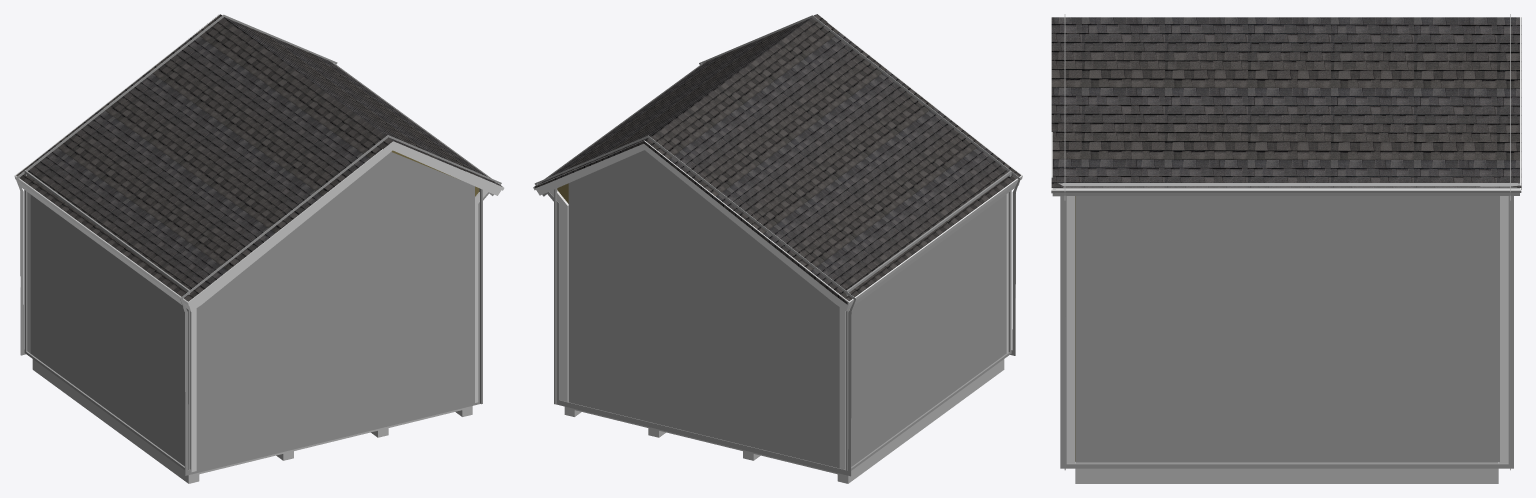
File: sample.fbx
3 renders of one model, left to right at view 1: azimuth 30°, elevation 25°; view 2: azimuth 150°, elevation 25°; view 3: azimuth 270°, elevation 25°, orthographic. The views are drawn at different scales.
Visible parts, largest first — view 1: front_side_plane, Architectural_Shingles_Roofing, left_side_plane, Trim_side, Shed_SaltBox_10x10_Wooden_Base, front_side_outline, left_side_outline, back_side_outline, right_side_outline; view 2: back_side_plane, Architectural_Shingles_Roofing, left_side_plane, Trim_side, back_side_outline, Shed_SaltBox_10x10_Wooden_Base, left_side_outline, front_side_outline, right_side_outline; view 3: right_side_plane, Architectural_Shingles_Roofing, Trim_side, Shed_SaltBox_10x10_Wooden_Base, right_side_outline, front_side_outline.
Boxes of the visible parts, box(x1,y1,x2,y2) form: front_side_plane: box(196, 152, 474, 471); Architectural_Shingles_Roofing: box(16, 14, 502, 301); left_side_plane: box(30, 194, 186, 466); Trim_side: box(14, 14, 504, 472); Shed_SaltBox_10x10_Wooden_Base: box(32, 359, 472, 483); front_side_outline: box(180, 135, 501, 475); left_side_outline: box(24, 170, 189, 469); back_side_outline: box(15, 14, 337, 355); right_side_outline: box(479, 188, 482, 404); back_side_plane: box(568, 150, 839, 468); Architectural_Shingles_Roofing: box(534, 14, 1020, 304); left_side_plane: box(851, 194, 1006, 466); Trim_side: box(533, 14, 1022, 469); back_side_outline: box(534, 135, 856, 476); Shed_SaltBox_10x10_Wooden_Base: box(564, 359, 1004, 483); left_side_outline: box(846, 171, 1011, 473); front_side_outline: box(699, 15, 1020, 355); right_side_outline: box(554, 188, 557, 404); right_side_plane: box(1075, 196, 1499, 461); Architectural_Shingles_Roofing: box(1051, 17, 1521, 189); Trim_side: box(1051, 17, 1521, 463); Shed_SaltBox_10x10_Wooden_Base: box(1075, 462, 1498, 483); right_side_outline: box(1060, 196, 1513, 468); front_side_outline: box(1064, 14, 1065, 470).
Size of the model in its own units: 341 by 307 by 318.
